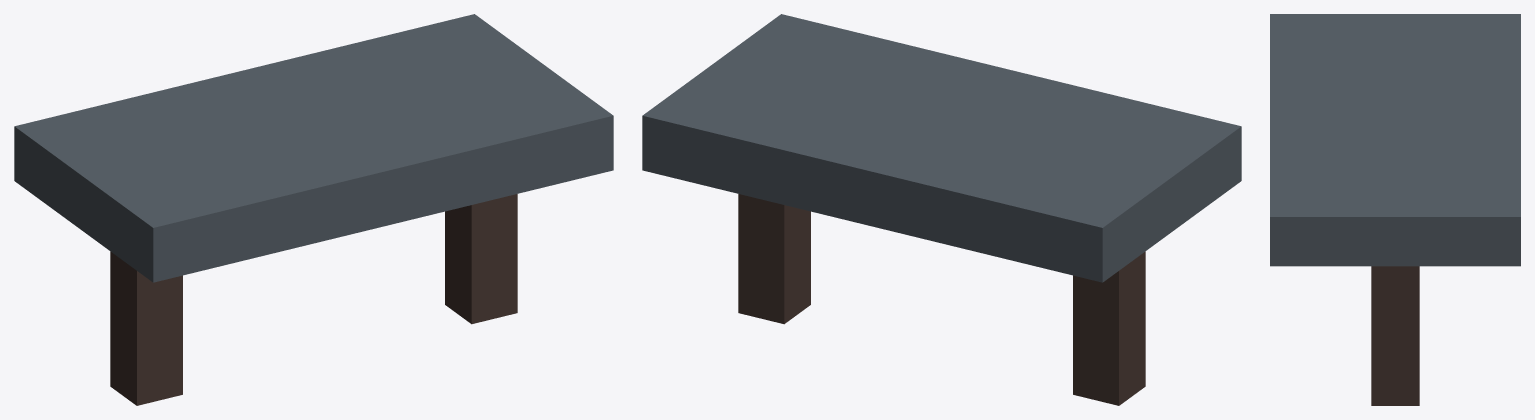
The model's file is anvil.glb.
3 renders of one model, left to right at view 1: azimuth 30°, elevation 25°; view 2: azimuth 150°, elevation 25°; view 3: azimuth 270°, elevation 25°, orthographic. The views are drawn at different scales.
Parts seen in each view (by area): view 1: anvil_top, anvil_leg_-1, anvil_leg_1; view 2: anvil_top, anvil_leg_-1, anvil_leg_1; view 3: anvil_top, anvil_leg_1.
Boxes of the visible parts, x1,y1,x2,y2 form: anvil_top: (14, 14, 613, 282); anvil_leg_-1: (110, 251, 182, 405); anvil_leg_1: (445, 194, 517, 324); anvil_top: (642, 14, 1241, 282); anvil_leg_-1: (1073, 251, 1145, 405); anvil_leg_1: (738, 194, 810, 324); anvil_top: (1270, 14, 1520, 266); anvil_leg_1: (1371, 266, 1419, 405).
Size of what is drawn, in the model's own units: 2.2 by 1.04 by 1.15.
